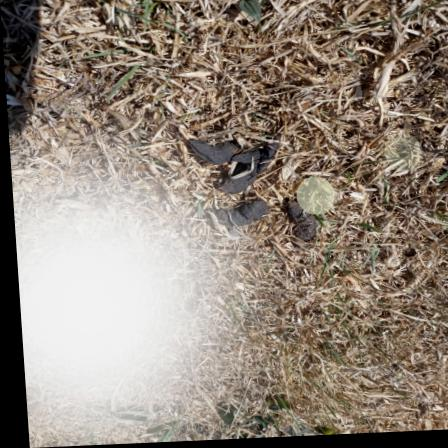dog-poop: (183, 130, 313, 253)
